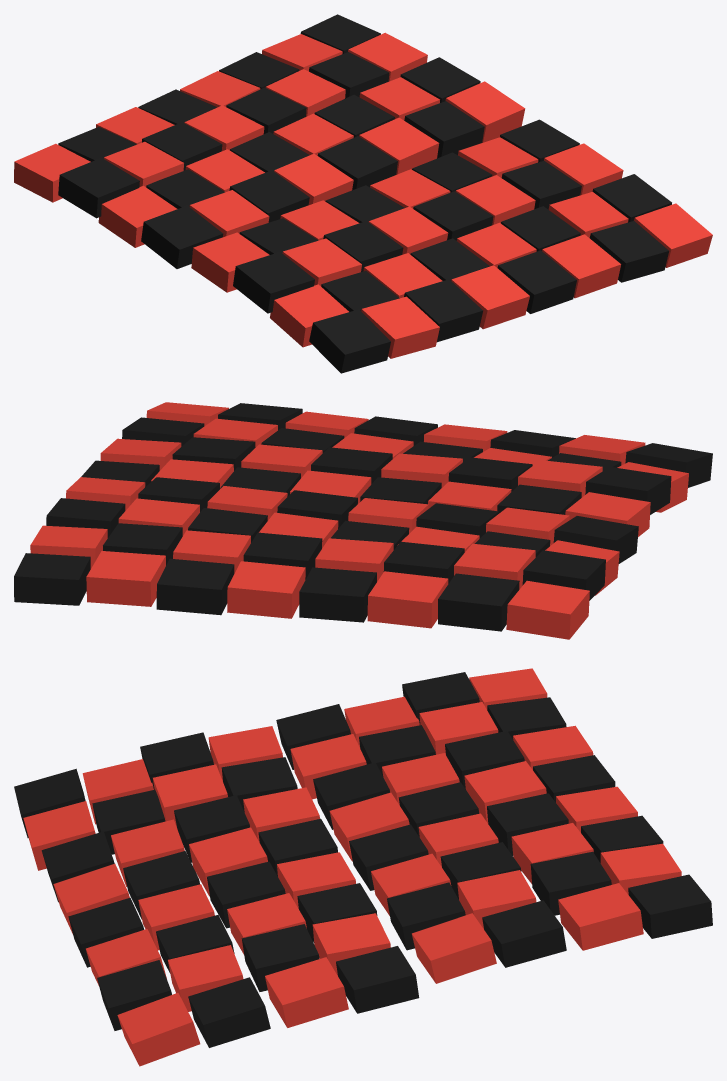
File: Checker Board.fbx
The picture shows the model from 3 angles, top to bottom: view 1: azimuth 30°, elevation 25°; view 2: azimuth 150°, elevation 25°; view 3: azimuth 270°, elevation 25°; orthographic projection. The views are drawn at different scales.
Visible parts, largest first — view 1: group_723033757, group_174593147, group_1152177714, group_1892849507, group_1077321401, group_1828469579, group_647486999, group_2045518222, group_1757822931, group_944657172, group_836313894, group_696697939 (+52 smaller); view 2: group_2062751071, group_2027725215, group_907565438, group_1260784255, group_837121361, group_1539058355, group_1744693539, group_847490734, group_1892849507, group_1152177714, group_174593147, group_2133042048 (+52 smaller); view 3: group_1290271735, group_525710906, group_1035257355, group_2074118702, group_2098236920, group_749612604, group_1757822931, group_847490734, group_1770867390, group_1787463049, group_696697939, group_647486999 (+52 smaller).
Part boxes in pixels (<box>): group_723033757: <box>309,309,390,373</box>; group_174593147: <box>141,205,223,268</box>; group_1152177714: <box>233,252,314,313</box>; group_1892849507: <box>58,157,139,218</box>; group_1077321401: <box>361,296,439,358</box>; group_1828469579: <box>497,250,576,313</box>; group_647486999: <box>589,221,669,282</box>; group_2045518222: <box>451,265,529,329</box>; group_1757822931: <box>634,203,712,267</box>; group_944657172: <box>404,279,483,342</box>; group_836313894: <box>542,234,621,298</box>; group_696697939: <box>404,101,484,158</box>; group_2062751071: <box>506,580,589,639</box>; group_2027725215: <box>227,561,305,618</box>; group_907565438: <box>86,551,165,606</box>; group_1260784255: <box>156,558,234,615</box>; group_837121361: <box>438,573,519,631</box>; group_1539058355: <box>367,571,448,628</box>; group_1744693539: <box>299,567,376,622</box>; group_847490734: <box>14,553,90,605</box>; group_1892849507: <box>522,550,605,600</box>; group_1152177714: <box>585,467,671,514</box>; group_174593147: <box>553,516,638,563</box>; group_2133042048: <box>454,543,535,589</box>; group_1290271735: <box>558,883,643,950</box>; group_525710906: <box>265,957,348,1027</box>; group_1035257355: <box>336,946,419,1013</box>; group_2074118702: <box>412,913,496,983</box>; group_2098236920: <box>482,900,566,967</box>; group_749612604: <box>188,977,270,1047</box>; group_1757822931: <box>117,993,200,1066</box>; group_847490734: <box>628,874,712,938</box>; group_1770867390: <box>241,924,319,991</box>; group_1787463049: <box>530,851,611,915</box>; group_696697939: <box>387,882,465,950</box>; group_647486999: <box>97,960,171,1030</box>.
Size of the model in its own units: 150 by 27.17 by 152.
